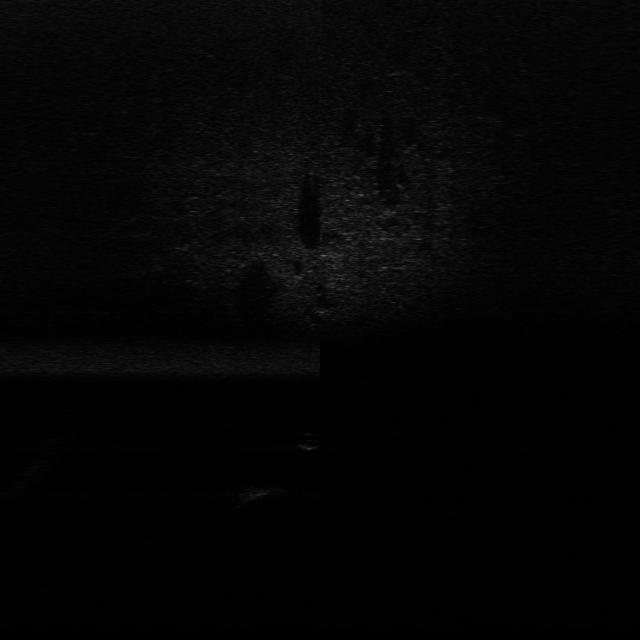ball: (288, 430, 324, 450)
square cage: (233, 486, 297, 502)
